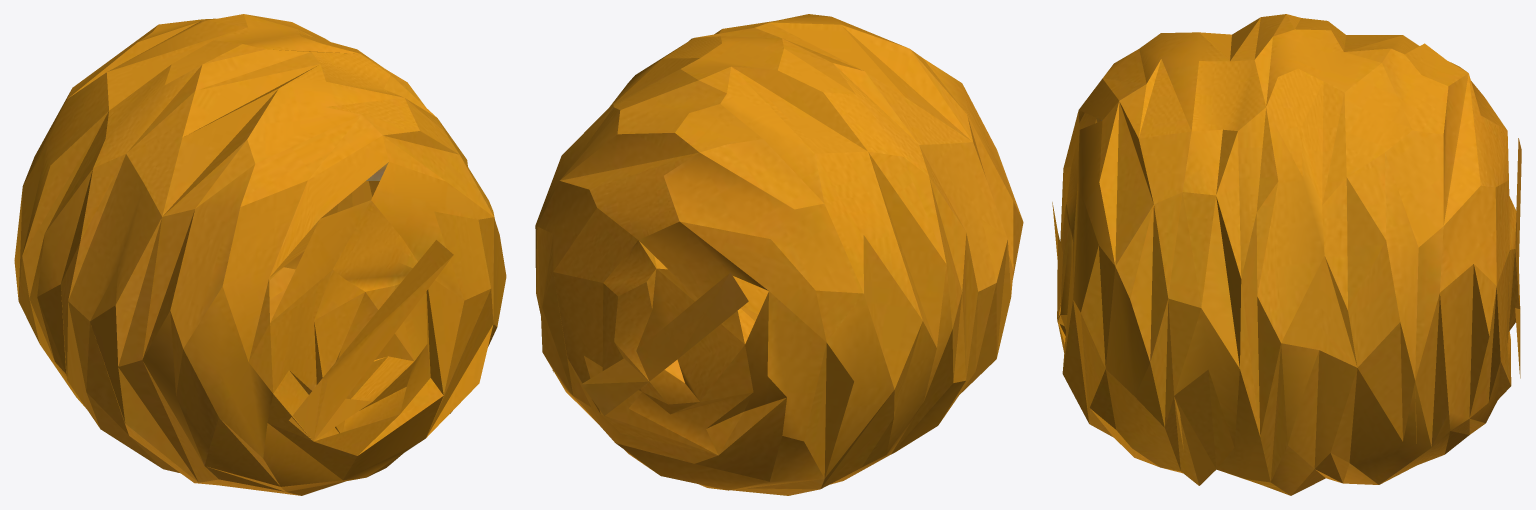
The model's file is haystack.glb.
3 renders of one model, left to right at view 1: azimuth 30°, elevation 25°; view 2: azimuth 150°, elevation 25°; view 3: azimuth 270°, elevation 25°, orthographic. The views are drawn at different scales.
Bounding box in the file's own units: 1.85 × 1.86 × 1.82.
Materials: 1 (1 with a texture image).
